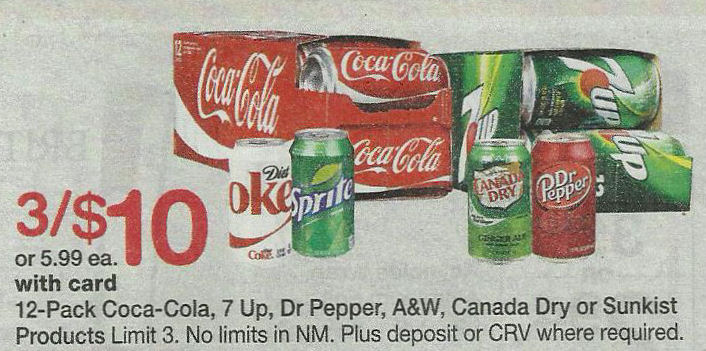Lata: (461, 132, 533, 269)
